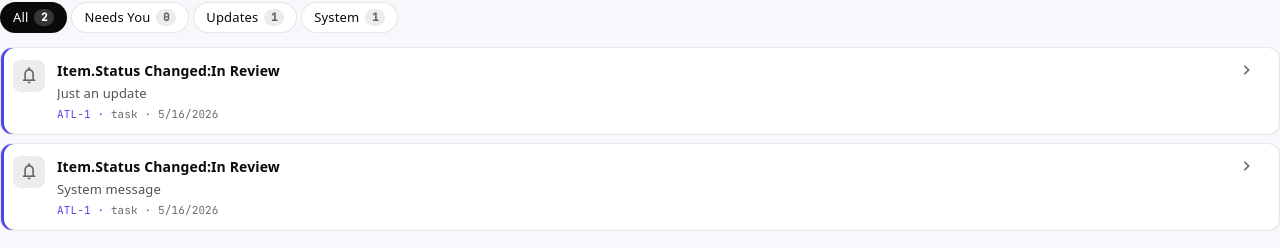
Test: InAppFeedTabContent › filters rows by kind when a FilterPill is clicked
Note: Click "System" pill
Click the text "System".
click(337, 17)  # box 314,7 -> 359,28
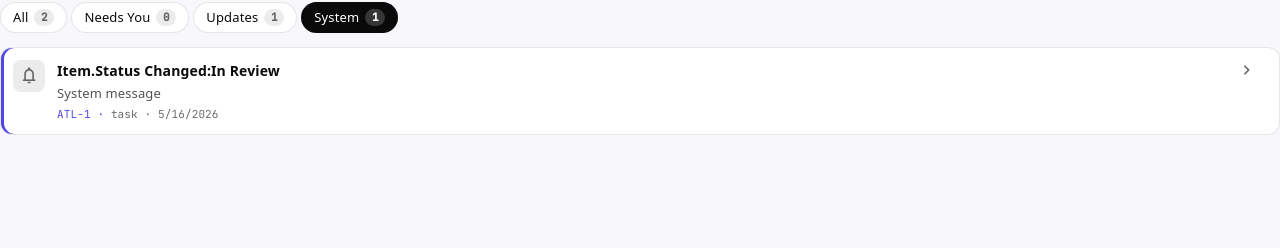
Expected: the text "System message" is shown, 57,84 -> 161,102
Now the button "Just an update" is gone
